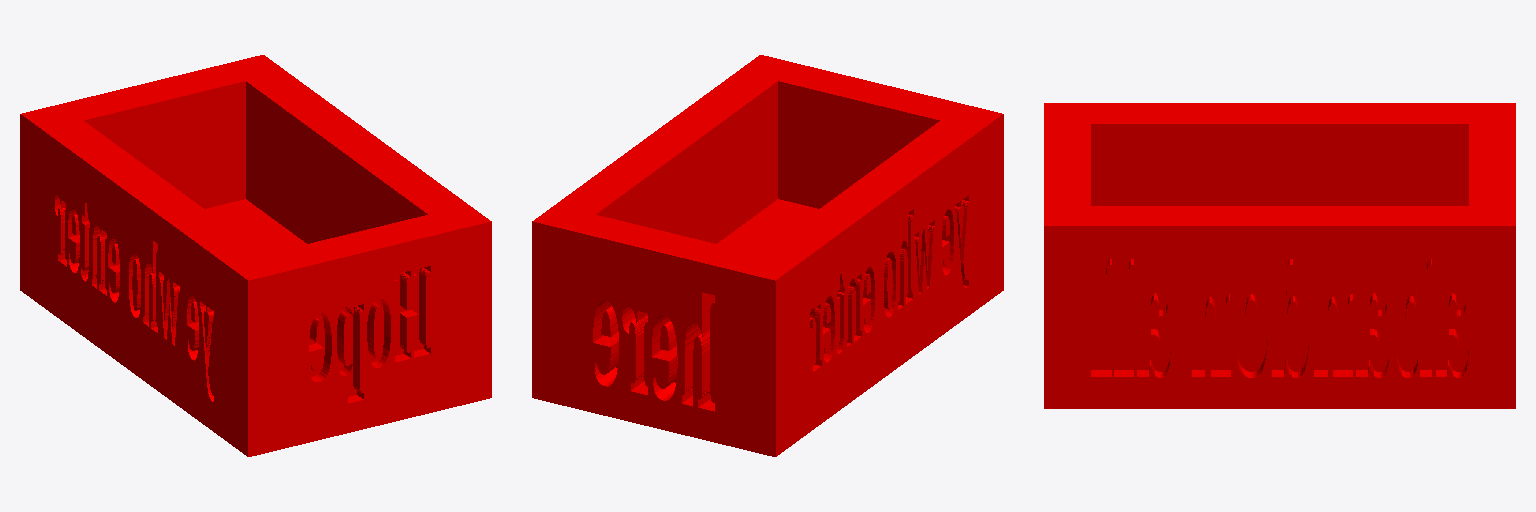
The robot description file, URDF, robot "box_base":
<?xml version="1.0" ?>
<robot name="box_base">
  <link name="baseLink">
    <contact>
      <lateral_friction value="1"/>
      <rolling_friction value="0"/>
      <contact_cfm value="0.0"/>
      <contact_erp value="1.0"/>
    </contact>
    <inertial>
      <origin rpy="0 0 0" xyz="0.0 0.0 0.0"/>
       <mass value="0.2"/>
       <inertia ixx="1" ixy="0" ixz="0" iyy="1" iyz="0" izz="1"/>
    </inertial>
    <visual>
      <origin rpy="0 0 0" xyz="0 0 0"/>
      <geometry>
        <mesh filename="box_base.obj" scale="1 1 1"/>
      </geometry>
       <material name="red">
        <color rgba="1.0 0.0 0.0 1"/>
      </material>
    </visual>
    <collision>
      <origin rpy="0 0 0" xyz="0 0 0"/>
      <geometry>
             <mesh filename="box_base.obj" scale="1 1 1"/>
      </geometry>
    </collision>
  </link>
  <link name="world">
    <inertial>
      <mass value="0"/>
      <inertia ixx="0.0" ixy="0.0" ixz="0.0" iyy="0.0" iyz="0.0" izz="0.0"/>
    </inertial>
  </link>
  <joint name="fixed_joint" type="fixed">
    <parent link="world"/>
    <child link="baseLink"/>
  </joint>
</robot>

--- What the picture shows (computed from the rendered views, not written in the file) ---
The picture shows the robot from 3 angles, left to right: view 1: azimuth 30°, elevation 25°; view 2: azimuth 150°, elevation 25°; view 3: azimuth 270°, elevation 25°; orthographic projection.
Robot: box_base — 2 links, 1 joints (1 fixed); root link world; default pose: all joints at 0.
Visible links, largest first — view 1: baseLink; view 2: baseLink; view 3: baseLink.
Link boxes in pixels (box(x1,y1,x2,y2)): baseLink: box(20, 55, 491, 456); baseLink: box(532, 55, 1003, 456); baseLink: box(1044, 103, 1515, 408).
Bounding box of the posed robot: 0.0895 × 0.1454 × 0.0622 m (x, y, z).
1 mesh visuals loaded from 1 distinct referenced files (1 OBJ).
